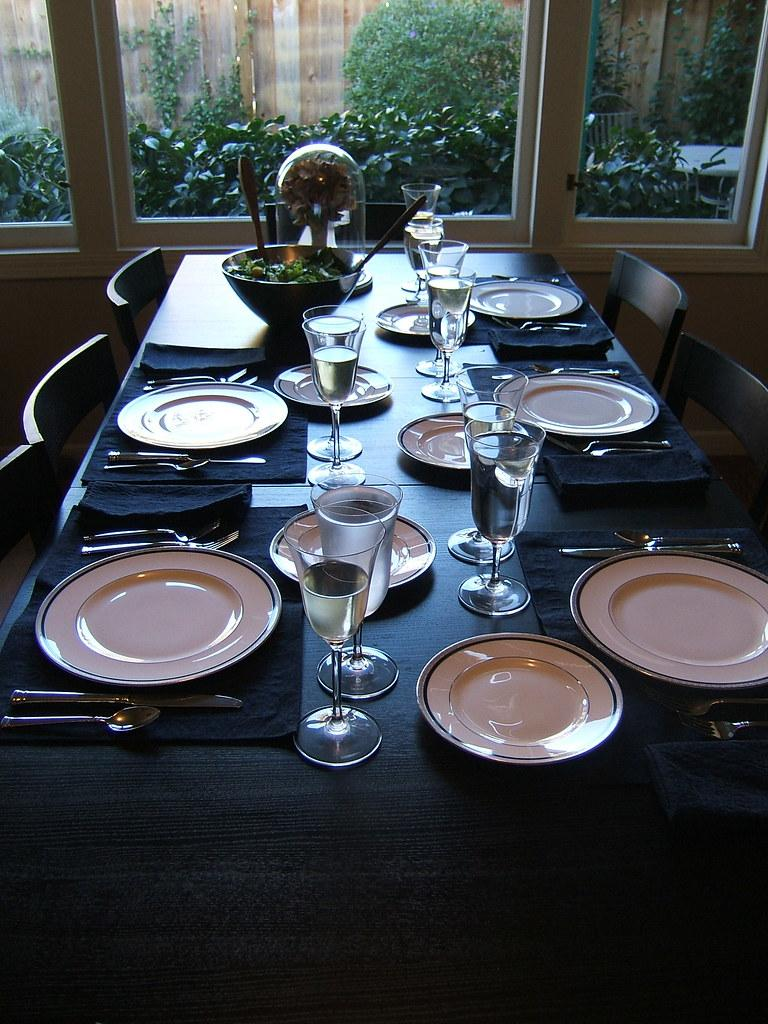table: (2, 245, 767, 1021)
